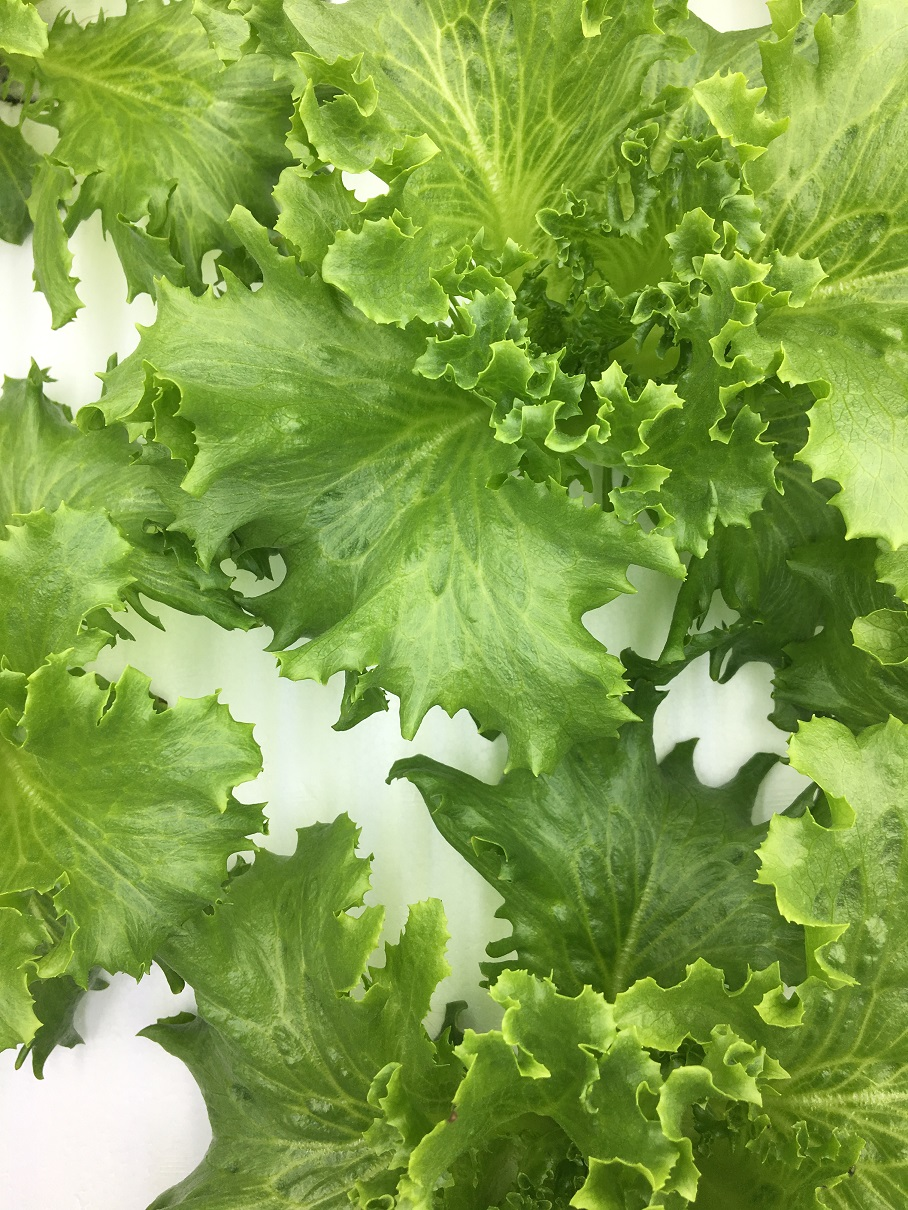tipburn: (445, 1105, 468, 1129)
